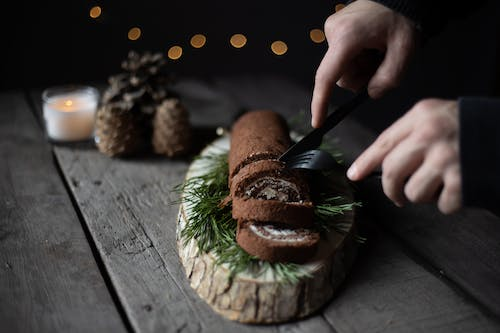knife: (275, 90, 370, 163)
